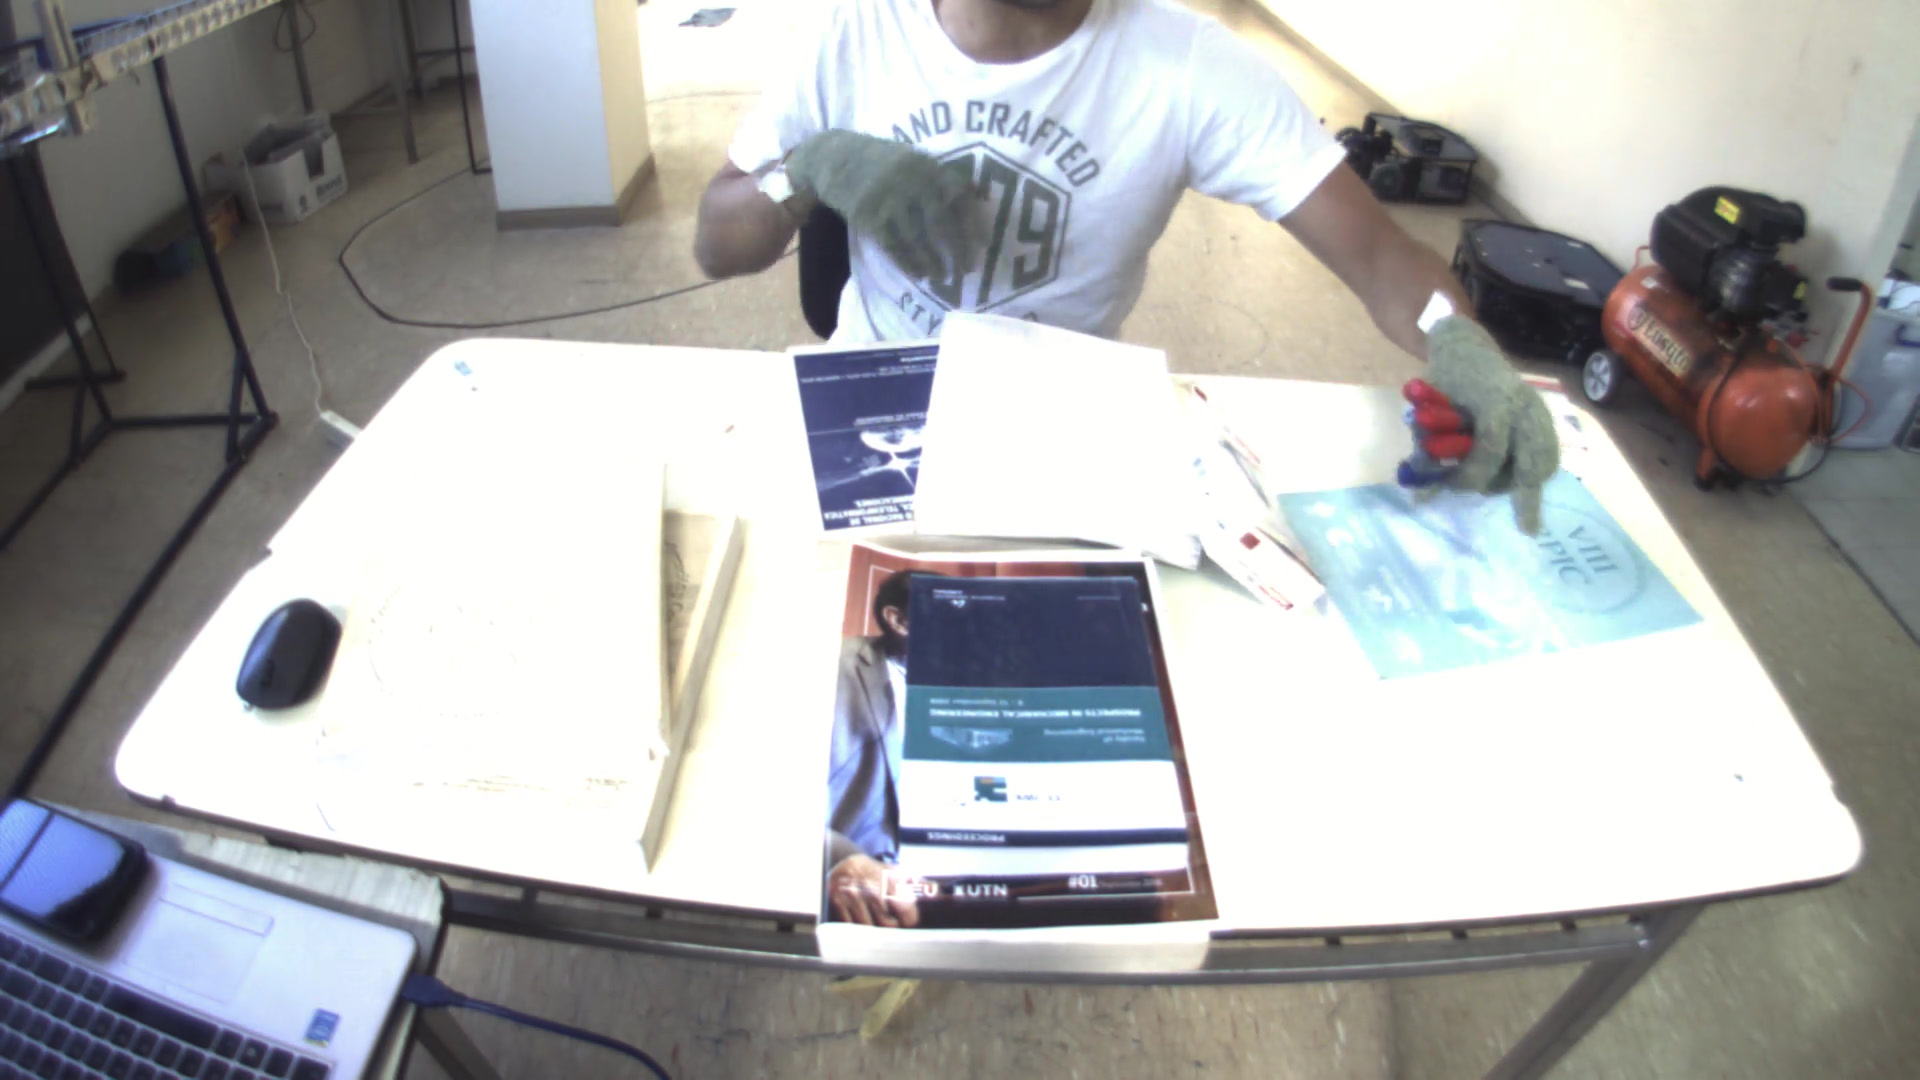hand: (1412, 298, 1572, 549), (774, 120, 988, 291)
